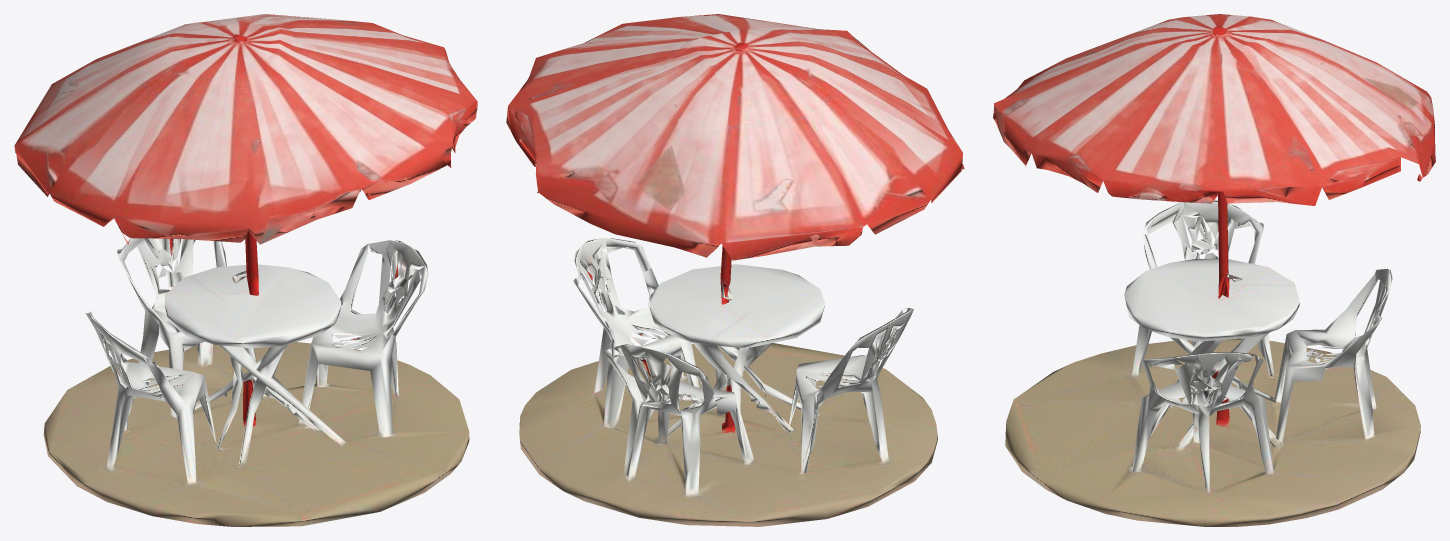
The model's file is umbrella.glb.
The picture shows the model from 3 angles, left to right: view 1: azimuth 30°, elevation 25°; view 2: azimuth 150°, elevation 25°; view 3: azimuth 270°, elevation 25°; orthographic projection.
Bounding box in the file's own units: 1.88 × 1.83 × 1.83.
1 material, 1 textured.
